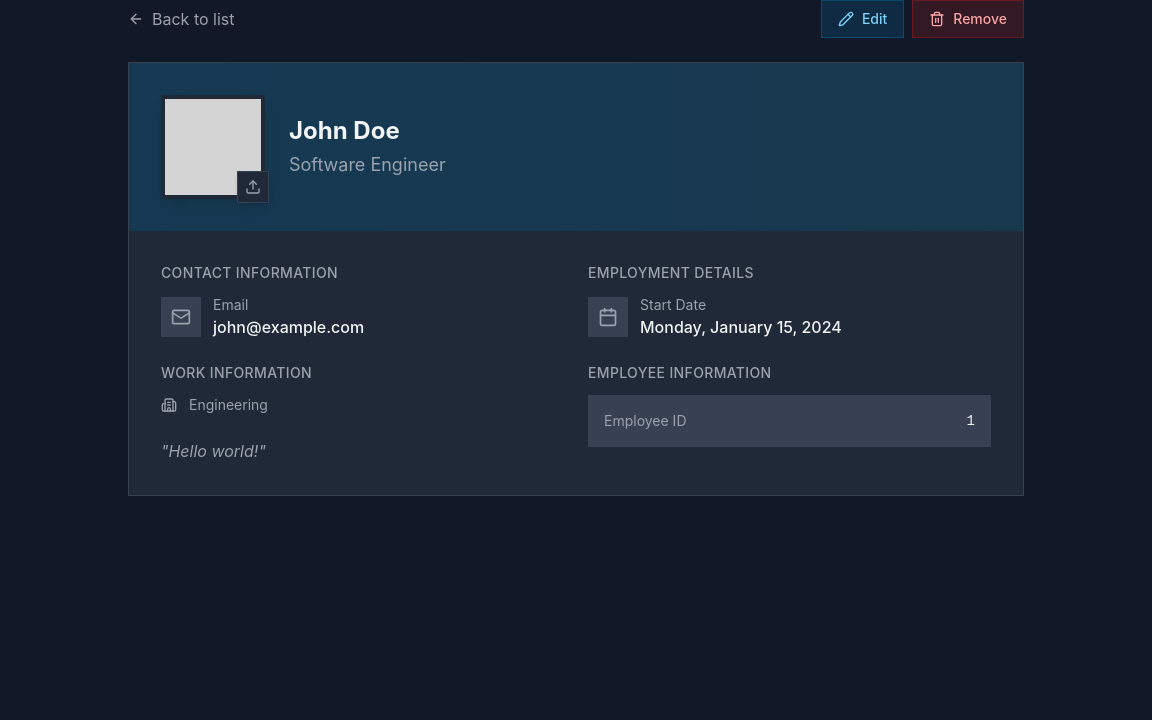
Test: EmployeeDetailPage › delete functionality › opens delete confirmation modal when Remove is clicked
The width and height of the screenshot is (1152, 720).
What coordinates should you click on to do the following:
click the button "Remove"
I would click on:
 (968, 19)
Its box is [912,0,1024,38].
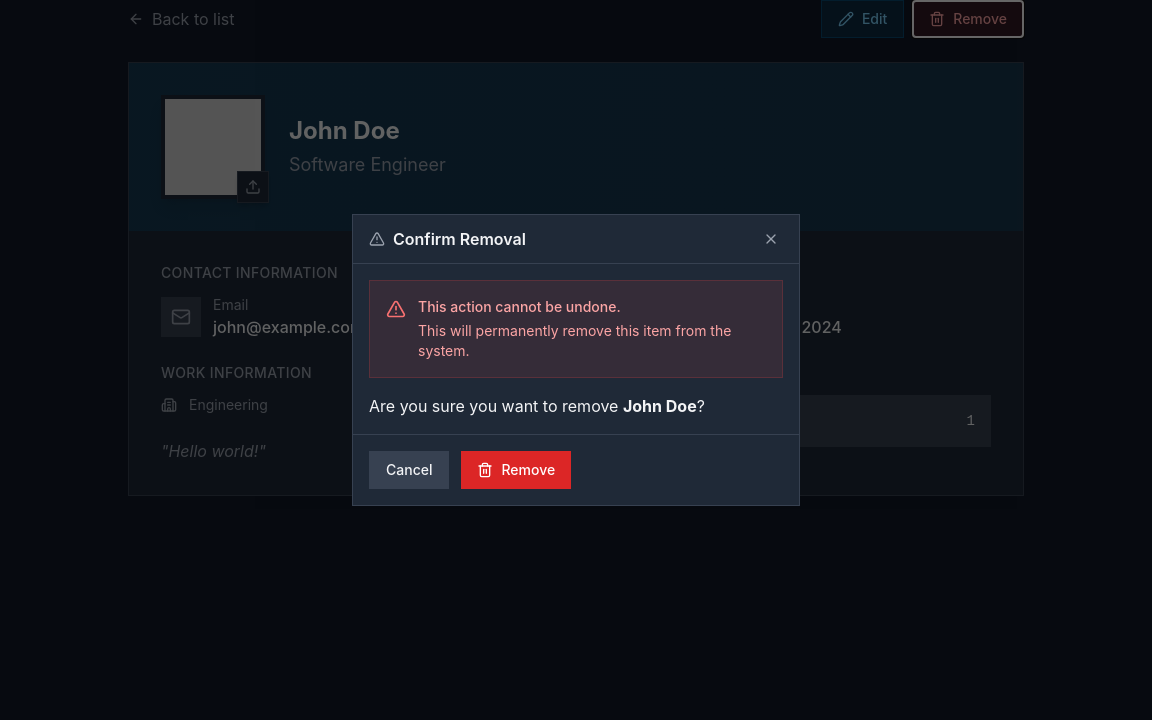
Expected: the heading "Confirm Removal" is shown, [393,227,526,251]
